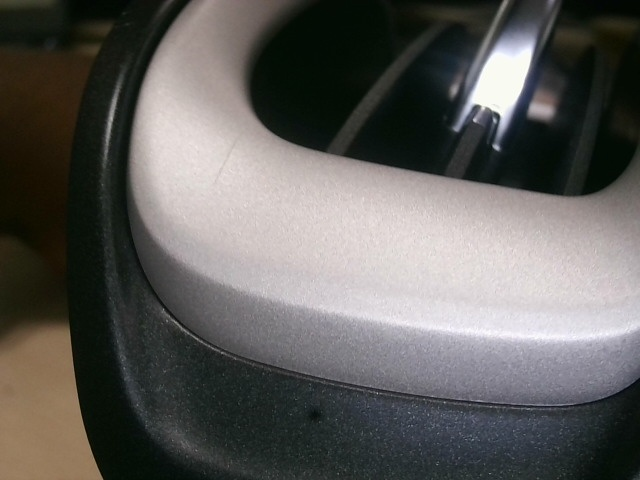NG: (210, 133, 245, 197)
